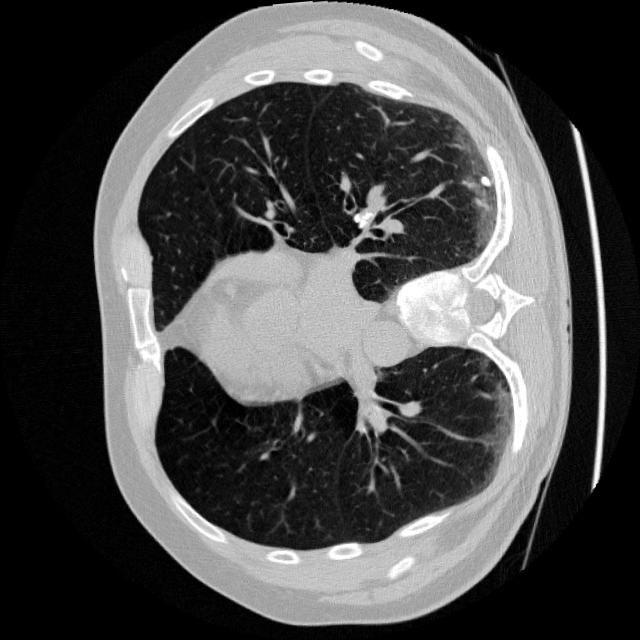nodule: (468, 164, 498, 194)
